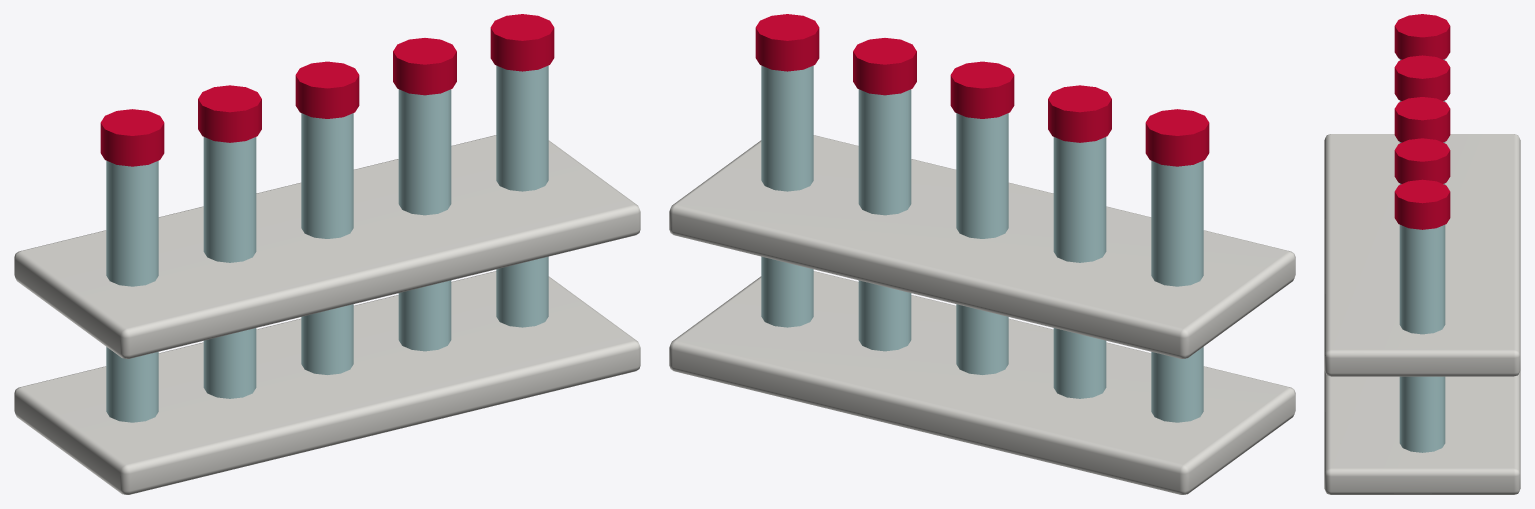
The model's file is Test_Tube_Rack.fbx.
3 renders of one model, left to right at view 1: azimuth 30°, elevation 25°; view 2: azimuth 150°, elevation 25°; view 3: azimuth 270°, elevation 25°, orthographic. The views are drawn at different scales.
Visible parts, largest first — view 1: Test_Tube_Rack_White, Test_Tube_Rack_Glass, Test_Tube_Rack_Red; view 2: Test_Tube_Rack_White, Test_Tube_Rack_Glass, Test_Tube_Rack_Red; view 3: Test_Tube_Rack_White, Test_Tube_Rack_Red, Test_Tube_Rack_Glass.
Part boxes in pixels (x1,y1,x2,y2): Test_Tube_Rack_White: [14, 135, 640, 494]; Test_Tube_Rack_Glass: [106, 65, 548, 422]; Test_Tube_Rack_Red: [100, 14, 554, 166]; Test_Tube_Rack_White: [669, 135, 1295, 494]; Test_Tube_Rack_Glass: [761, 65, 1203, 422]; Test_Tube_Rack_Red: [755, 14, 1209, 166]; Test_Tube_Rack_White: [1324, 134, 1520, 494]; Test_Tube_Rack_Red: [1394, 14, 1450, 229]; Test_Tube_Rack_Glass: [1399, 59, 1445, 452].
Size of the model in its own units: 32 by 18.8 by 12.
